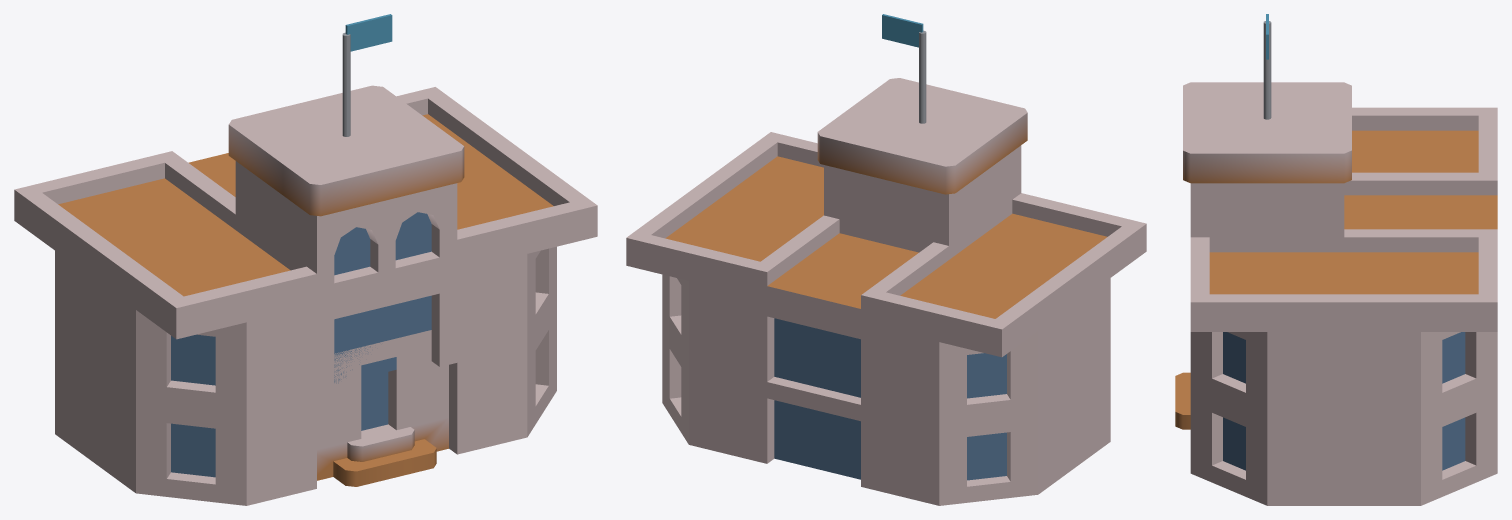
File: townhall.glb
3 views of the same model, side by side, from view 1: azimuth 30°, elevation 25°; view 2: azimuth 150°, elevation 25°; view 3: azimuth 270°, elevation 25° (orthographic). The views are drawn at different scales.
Parts seen in each view (by area): view 1: townhall; view 2: townhall; view 3: townhall.
Boxes of the visible parts, <box> form: townhall: <box>14,14,597,505</box>; townhall: <box>626,14,1146,505</box>; townhall: <box>1175,14,1497,505</box>.
Bounding box in the file's own units: 0.92 × 0.8693 × 0.644.
